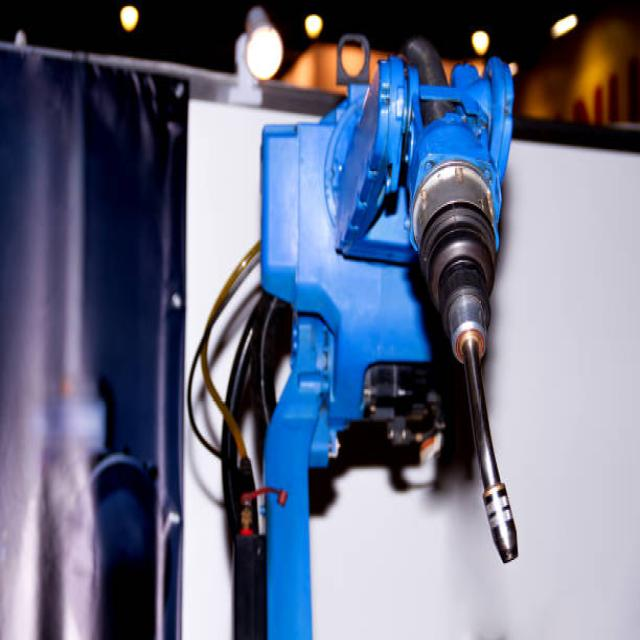Robotic-arm: (247, 39, 522, 640)
